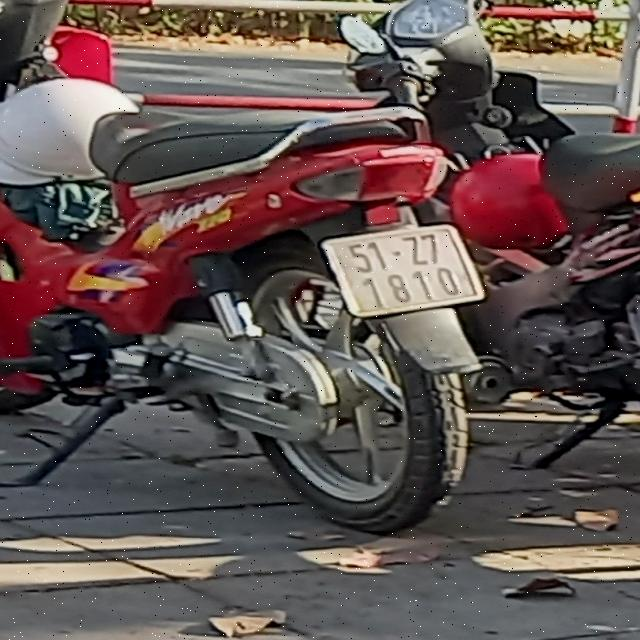0: (438, 264, 460, 300)
1: (359, 276, 388, 310), (410, 269, 438, 304), (368, 241, 392, 271)
5: (348, 242, 372, 276)
7: (422, 234, 444, 264)
8: (388, 272, 411, 306)
Z: (402, 236, 426, 266)
